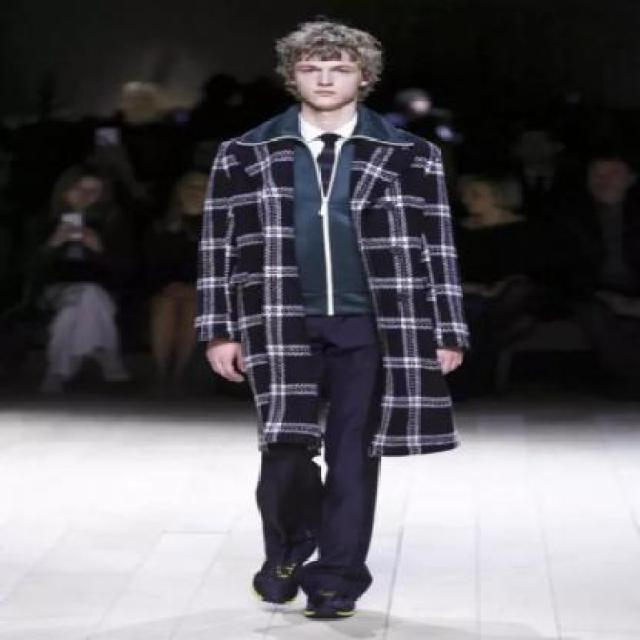Person: (170, 0, 492, 638)
